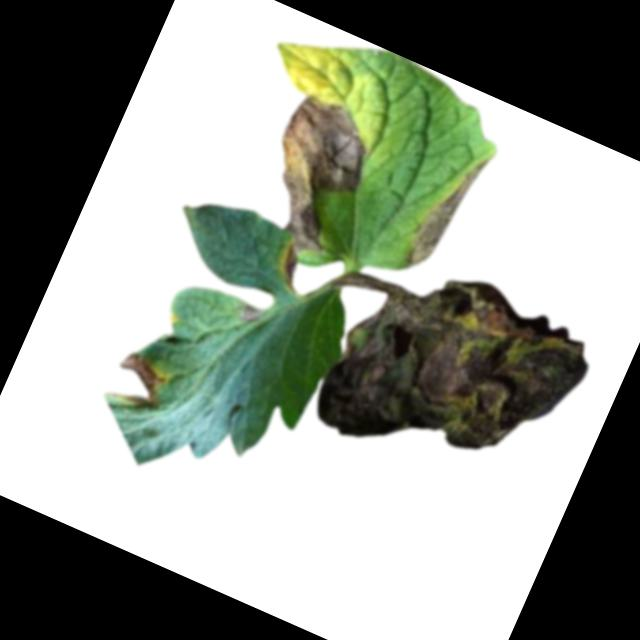Early_blight: (307, 238, 603, 515), (243, 86, 384, 258), (401, 143, 489, 278), (104, 347, 175, 417), (271, 243, 317, 296), (236, 300, 265, 326)
